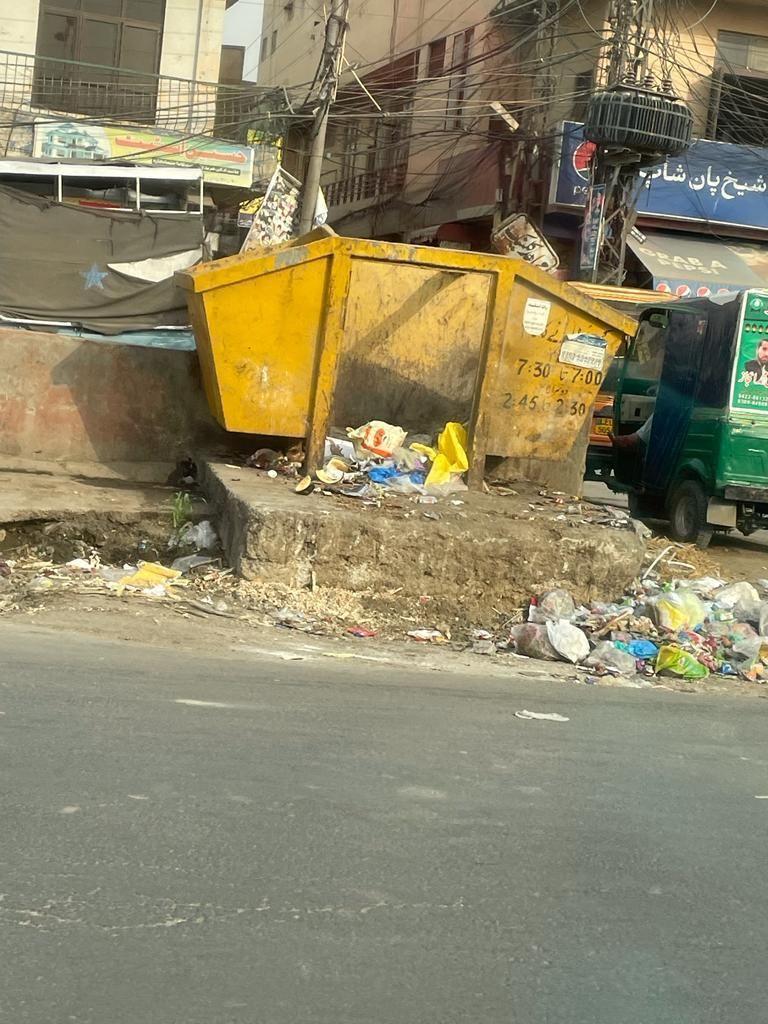garbage: (525, 544, 768, 701), (285, 392, 499, 512)
